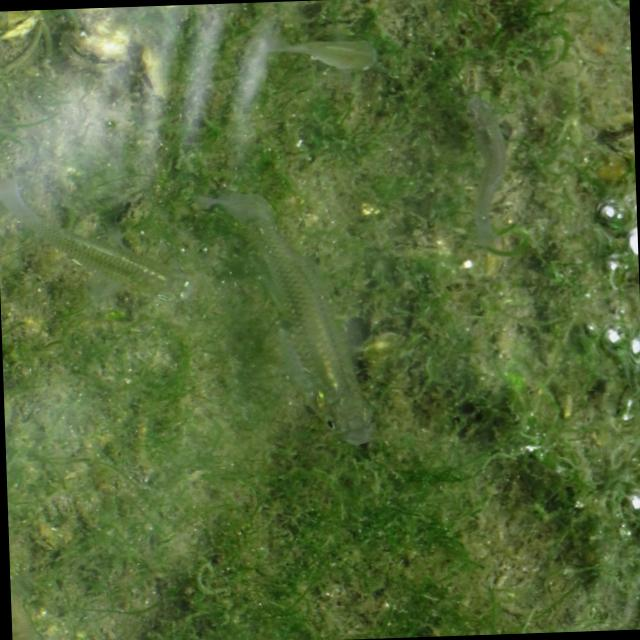Sivrisinek Baligi: (209, 187, 377, 458), (0, 176, 186, 313), (447, 84, 512, 249), (259, 27, 393, 78)
